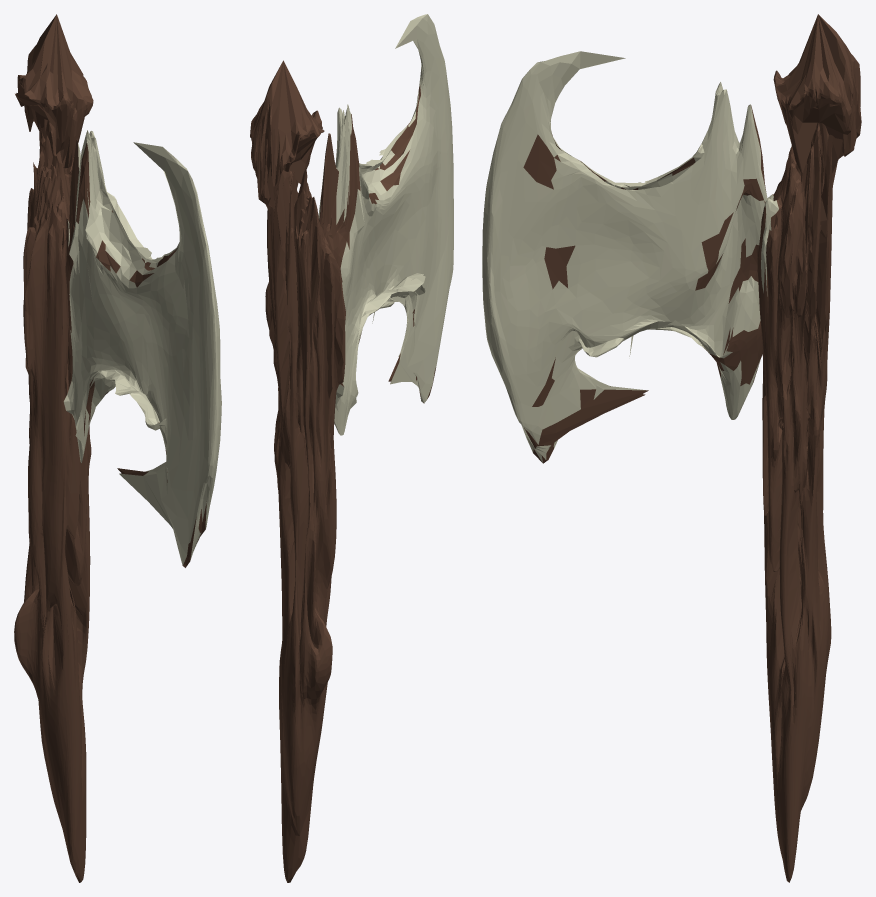
File: топор1.glb
The picture shows the model from 3 angles, left to right: view 1: azimuth 30°, elevation 25°; view 2: azimuth 150°, elevation 25°; view 3: azimuth 270°, elevation 25°; orthographic projection. The views are drawn at different scales.
Parts seen in each view (by area): view 1: Cylinder; view 2: Cylinder; view 3: Cylinder.
Boxes of the visible parts, box(x1,y1,x2,y2) form: Cylinder: box(14, 14, 221, 882); Cylinder: box(250, 14, 453, 882); Cylinder: box(482, 14, 861, 882).
Size of the model in its own units: 2.13 by 23.27 by 9.26.
